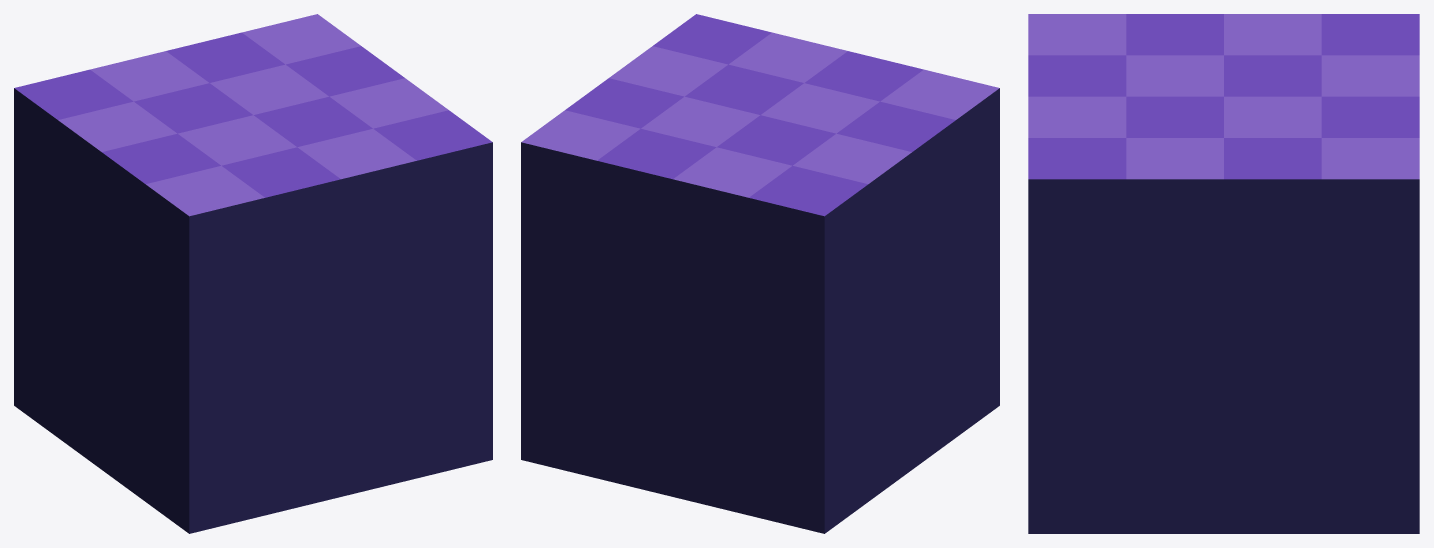
File: box_purple.glb
3 renders of one model, left to right at view 1: azimuth 30°, elevation 25°; view 2: azimuth 150°, elevation 25°; view 3: azimuth 270°, elevation 25°, orthographic. The views are drawn at different scales.
Parts seen in each view (by area): view 1: Body; view 2: Body; view 3: Body.
Boxes of the visible parts, x1=… form: Body: x1=14, y1=14, x2=492, y2=533; Body: x1=521, y1=14, x2=999, y2=533; Body: x1=1028, y1=14, x2=1419, y2=533.
Bounding box in the file's own units: 1 × 1 × 1.
